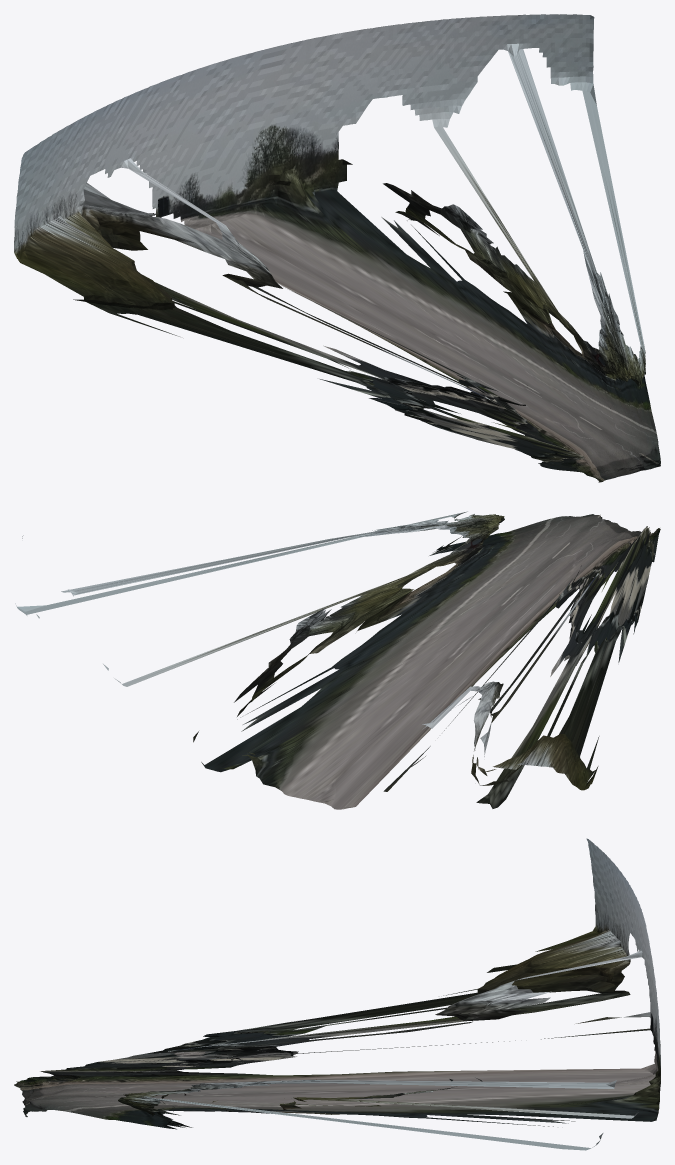
The picture shows the model from 3 angles, top to bottom: view 1: azimuth 30°, elevation 25°; view 2: azimuth 150°, elevation 25°; view 3: azimuth 270°, elevation 25°; orthographic projection. The views are drawn at different scales.
Visible parts, largest first — view 1: defaultobject; view 2: defaultobject; view 3: defaultobject.
Part boxes in pixels (x1,y1,x2,y2): defaultobject: (14, 14, 660, 482); defaultobject: (15, 511, 660, 809); defaultobject: (14, 838, 660, 1150).
Bounding box in the file's own units: 41.02 × 11.69 × 44.92.
Materials: 1 (1 with a texture image).
